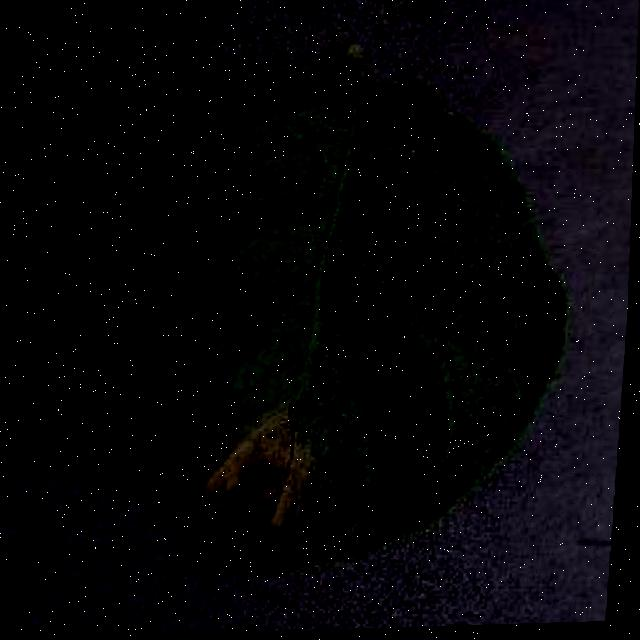Late_blight: (162, 408, 347, 578)
